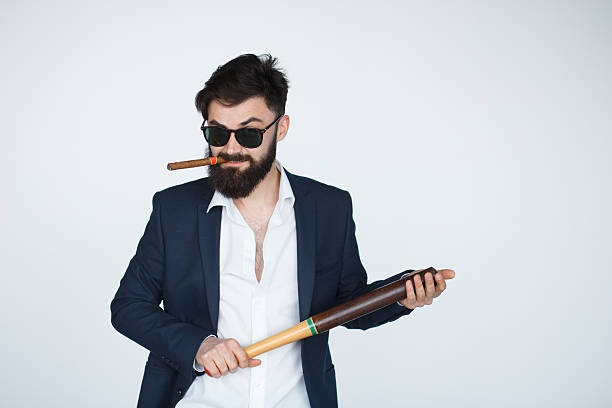bita: (246, 267, 438, 360)
